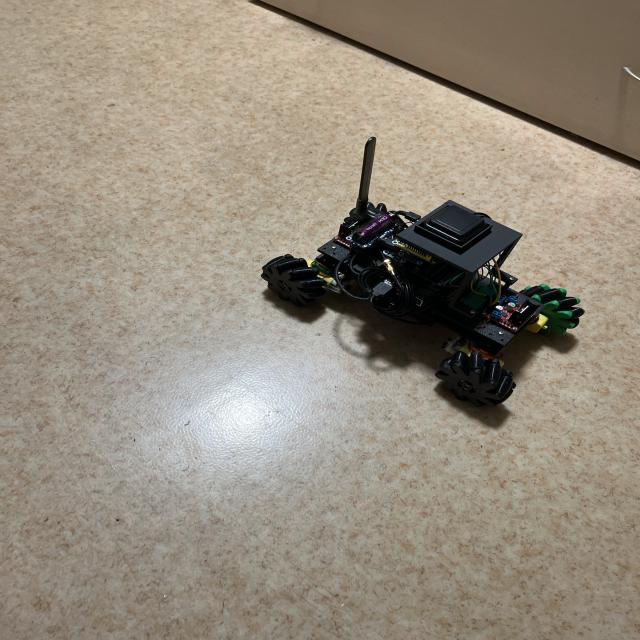robot: (261, 137, 584, 406)
